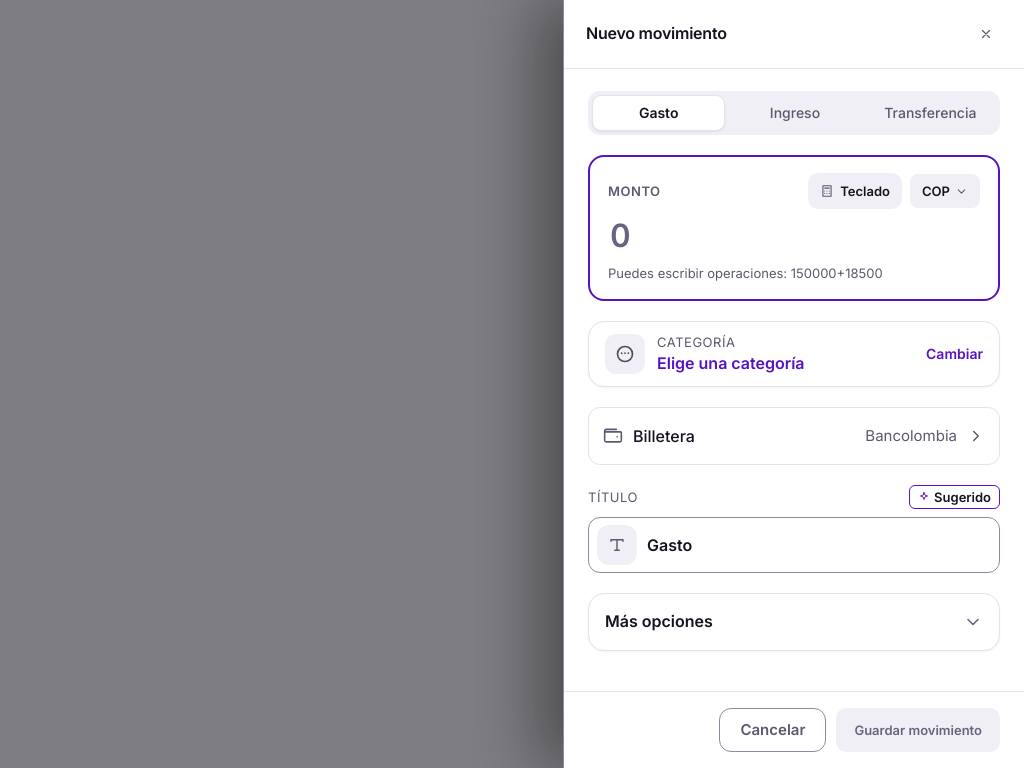
Test: NewTransactionPanel › suggests the category, then the subcategory name, tags it, and remembers the last title
Check: the button "Billetera Bancolombia" is shown, box x1=589 y1=408 x2=999 y2=464
Check: the field labelled "Título" holds "Gasto", box x1=647 y1=533 x2=987 y2=557
Click the button "CATEGORÍA Elige una categoría Cambiar" at (794, 354), box x1=588 y1=321 x2=1000 y2=387
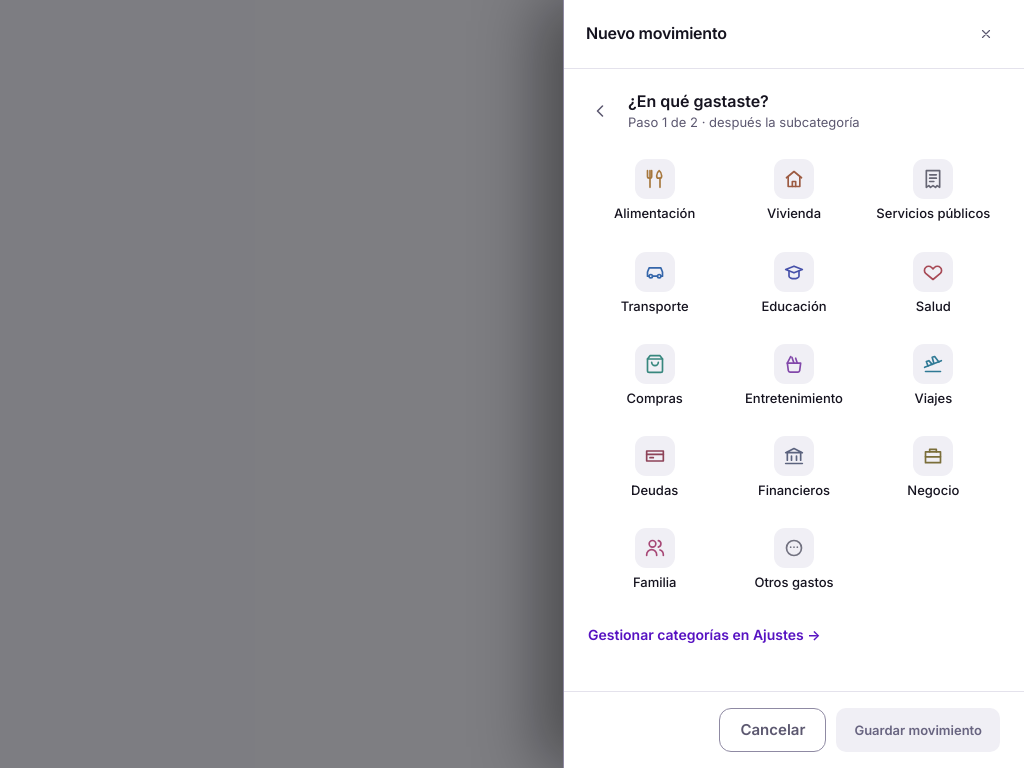
Click the radio button labelled "Alimentación" at (655, 191), box x1=588 y1=147 x2=721 y2=234
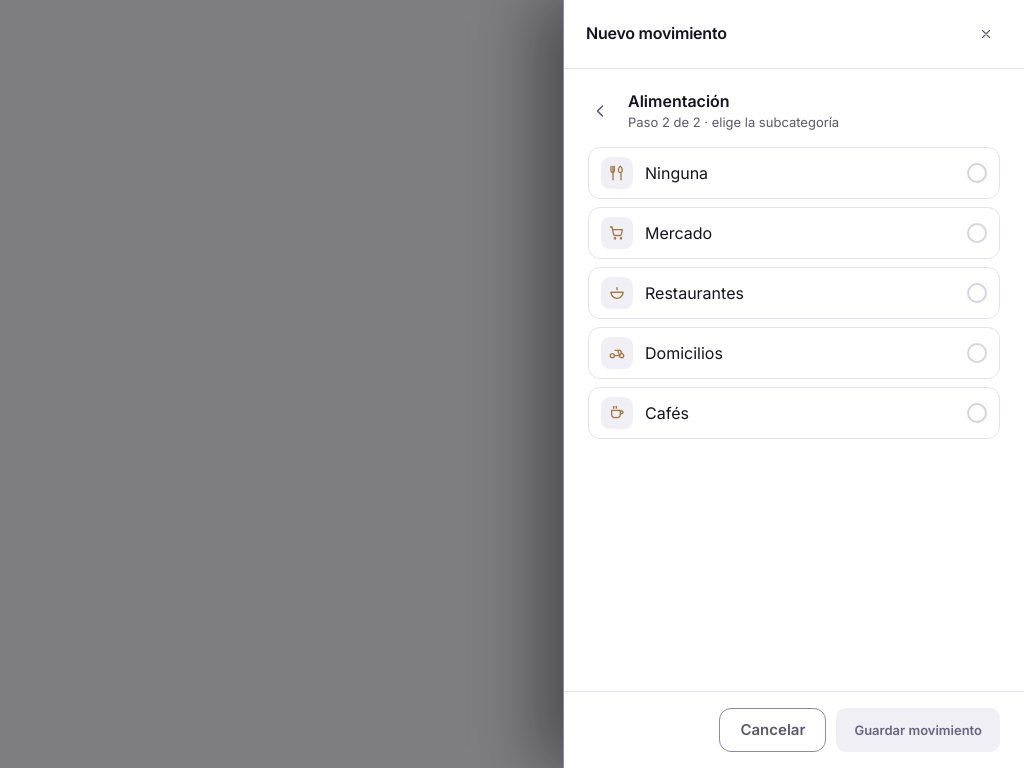
Check: the heading "Alimentación" is shown, box x1=628 y1=91 x2=730 y2=111
Click the button named "Volver" at (600, 111), box x1=580 y1=91 x2=620 y2=131
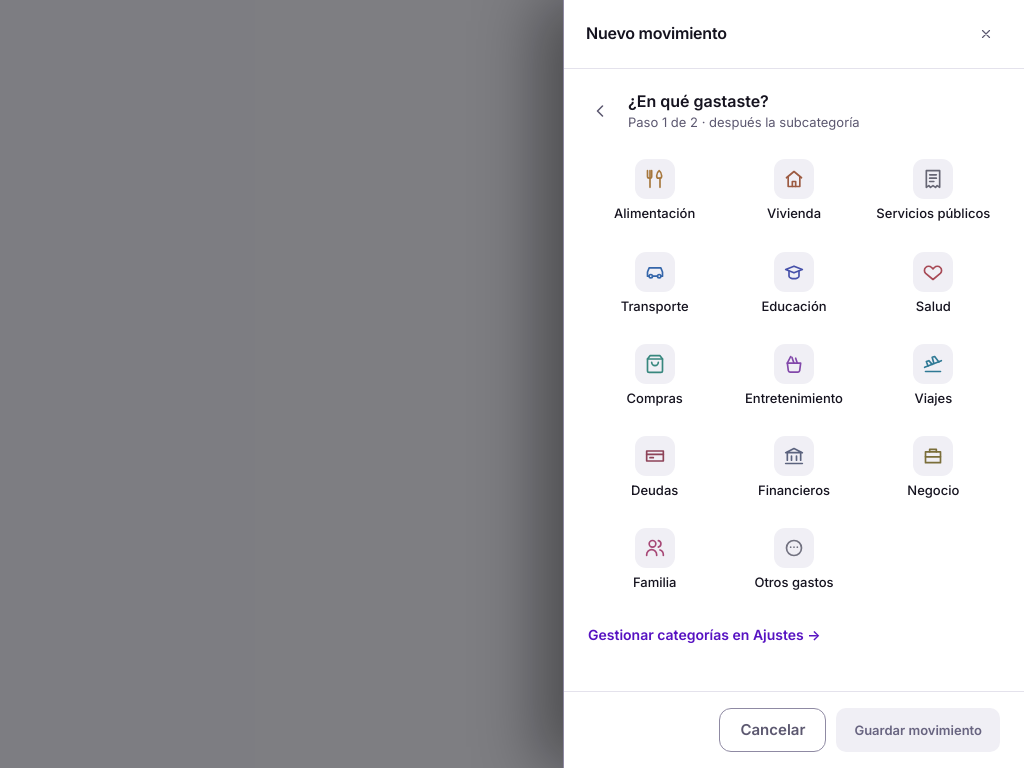
Click the radio button labelled "Alimentación" at (655, 191), box x1=588 y1=147 x2=721 y2=234
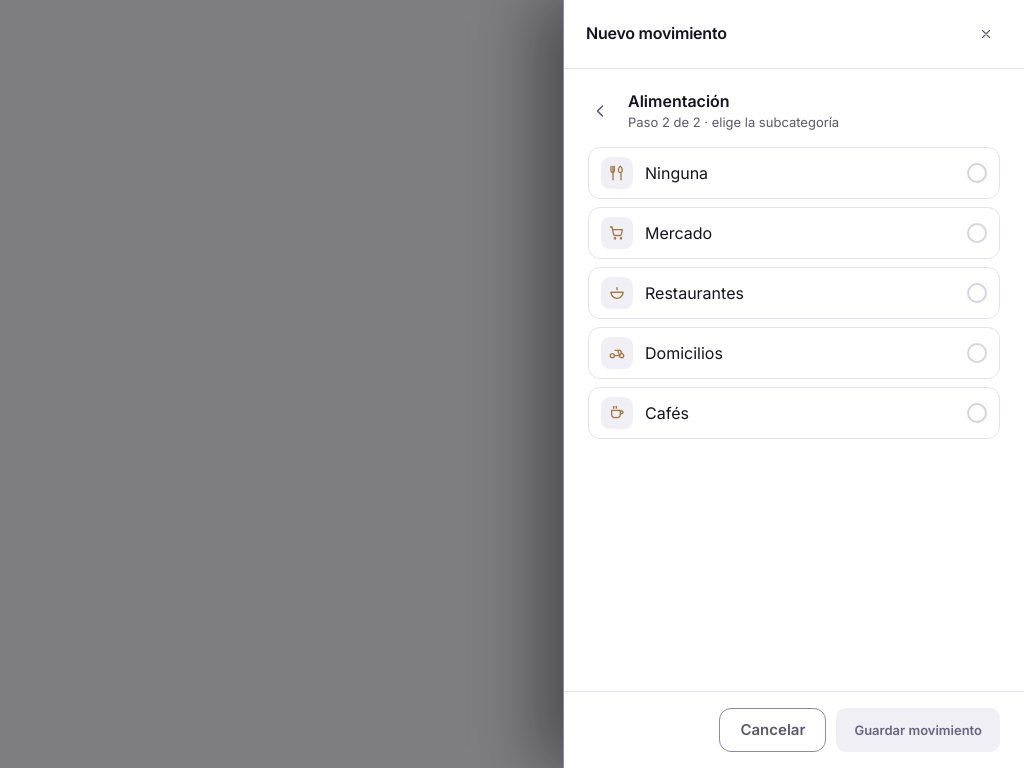
Click the radio button labelled "Mercado" at (617, 233), box x1=588 y1=207 x2=1000 y2=259
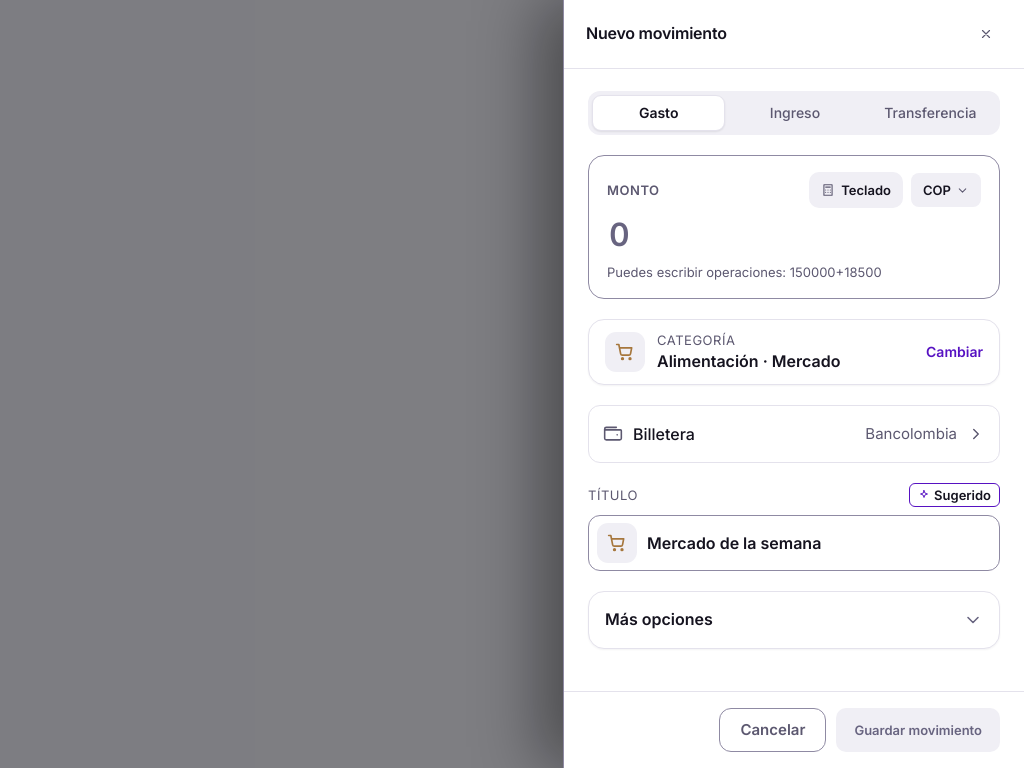
Check: the field labelled "Título" holds "Mercado de la semana", box x1=647 y1=531 x2=987 y2=555
Check: the text "Sugerido" is shown, box x1=909 y1=483 x2=1000 y2=507
